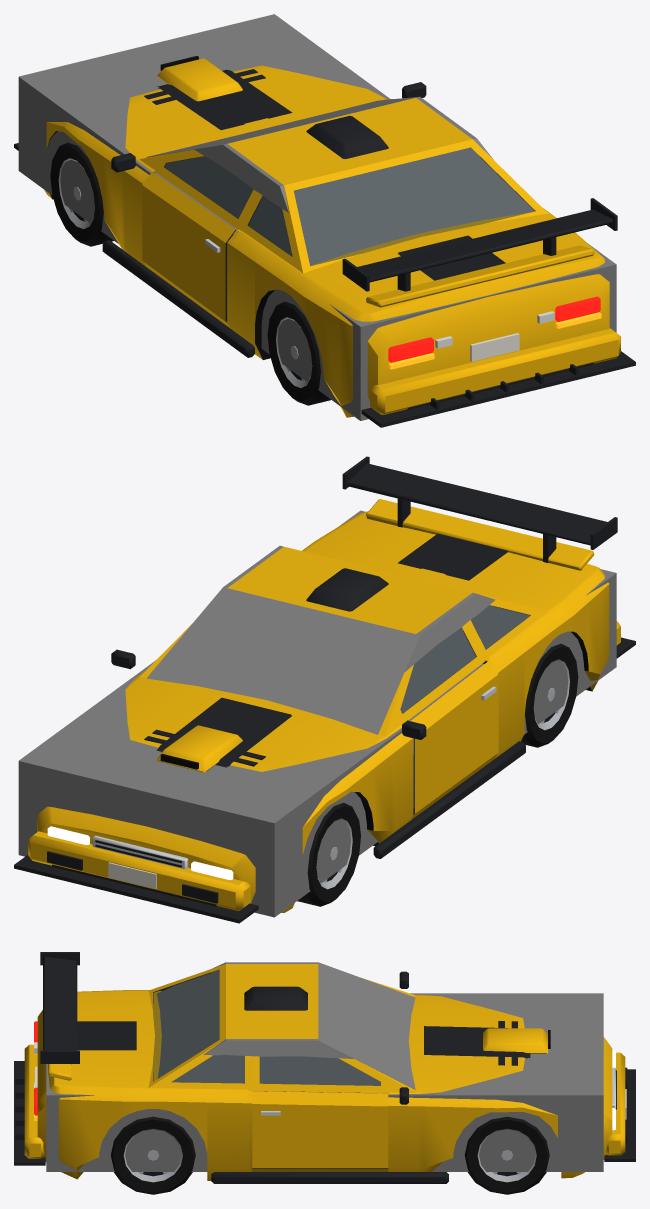
The model's file is sports.glb.
3 views of the same model, one above another, from view 1: azimuth 30°, elevation 25°; view 2: azimuth 150°, elevation 25°; view 3: azimuth 270°, elevation 25° (orthographic). The views are drawn at different scales.
Parts seen in each view (by area): view 1: sports, sports_Body, sports_Roof, sports_Door_FL, sports_Wheel_RL, sports_Wheel_FL; view 2: sports, sports_Body, sports_Roof, sports_Door_FL, sports_Wheel_FL, sports_Wheel_RL; view 3: sports, sports_Body, sports_Roof, sports_Door_FR, sports_Wheel_FR, sports_Wheel_RR.
Part boxes in pixels (bbox=[...]): sports: bbox=[14, 14, 635, 427]; sports_Body: bbox=[44, 65, 609, 417]; sports_Roof: bbox=[139, 98, 548, 273]; sports_Door_FL: bbox=[142, 172, 235, 321]; sports_Wheel_RL: bbox=[267, 301, 330, 405]; sports_Wheel_FL: bbox=[50, 142, 113, 246]; sports: bbox=[14, 456, 635, 923]; sports_Body: bbox=[37, 511, 609, 912]; sports_Roof: bbox=[227, 546, 548, 736]; sports_Door_FL: bbox=[410, 661, 498, 813]; sports_Wheel_FL: bbox=[297, 802, 360, 906]; sports_Wheel_RL: bbox=[521, 643, 578, 747]; sports: bbox=[14, 952, 635, 1183]; sports_Body: bbox=[34, 971, 615, 1180]; sports_Roof: bbox=[148, 964, 415, 1093]; sports_Door_FR: bbox=[252, 1091, 388, 1167]; sports_Wheel_FR: bbox=[464, 1116, 549, 1194]; sports_Wheel_RR: bbox=[110, 1116, 195, 1194].
Size of what is drawn, in the model's own units: 2.22 by 1.27 by 4.71.
